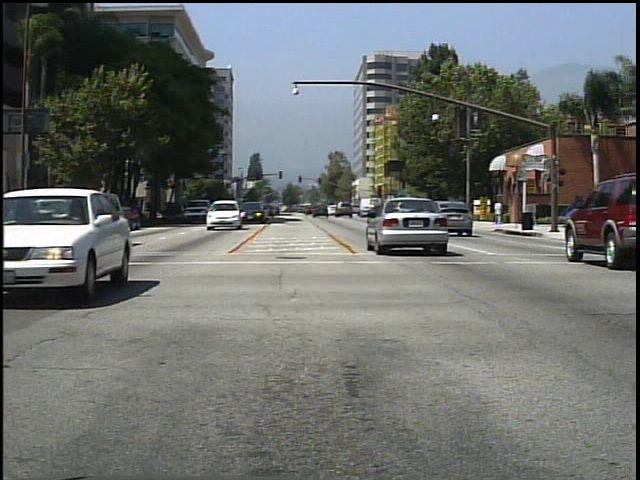person: (449, 194, 467, 229), (492, 195, 506, 226)
